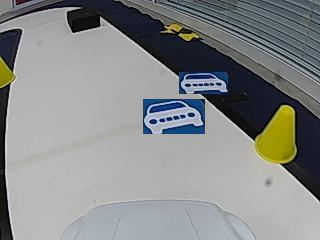block: (66, 7, 99, 32)
cone: (255, 104, 296, 163), (0, 56, 16, 87)
